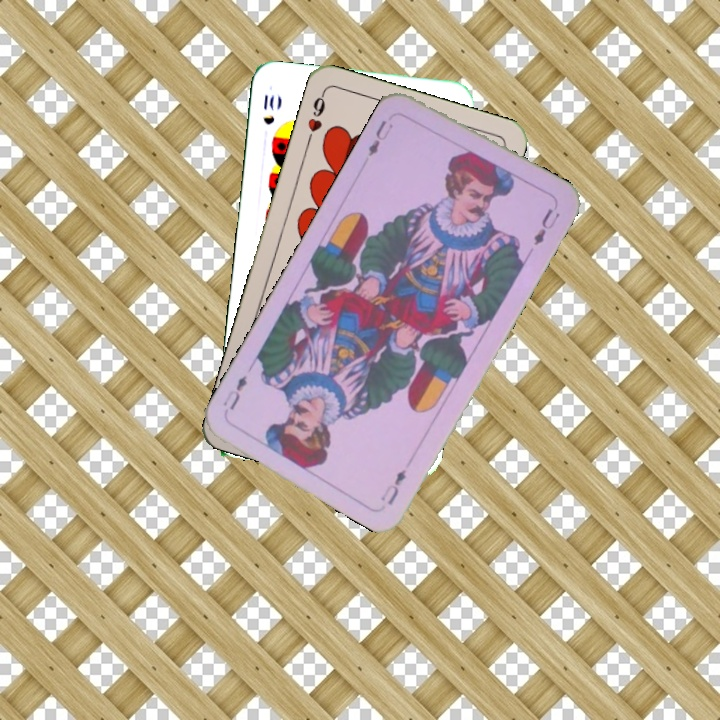EU: (363, 116, 396, 159), (376, 465, 409, 508)
H9: (303, 88, 328, 146)
S10: (259, 91, 277, 128)
